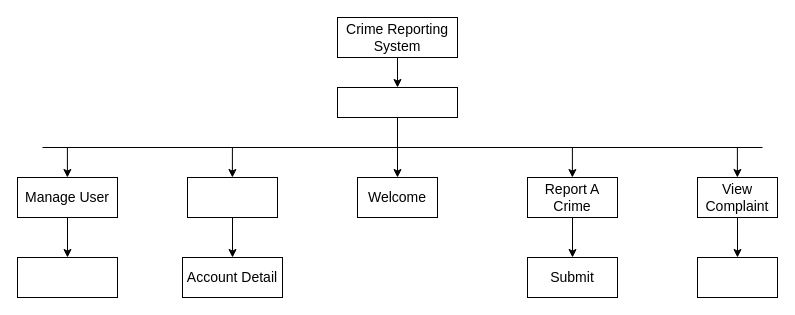
Image size: 795x315. Some labels were removed from this diagram. Here are the shapes that lost their labels. From the top down, the box of each, then its label:
(336, 86, 458, 118): Login/Register
(186, 176, 278, 218): View Profile
(16, 256, 118, 298): Update User
(696, 256, 778, 298): Status
